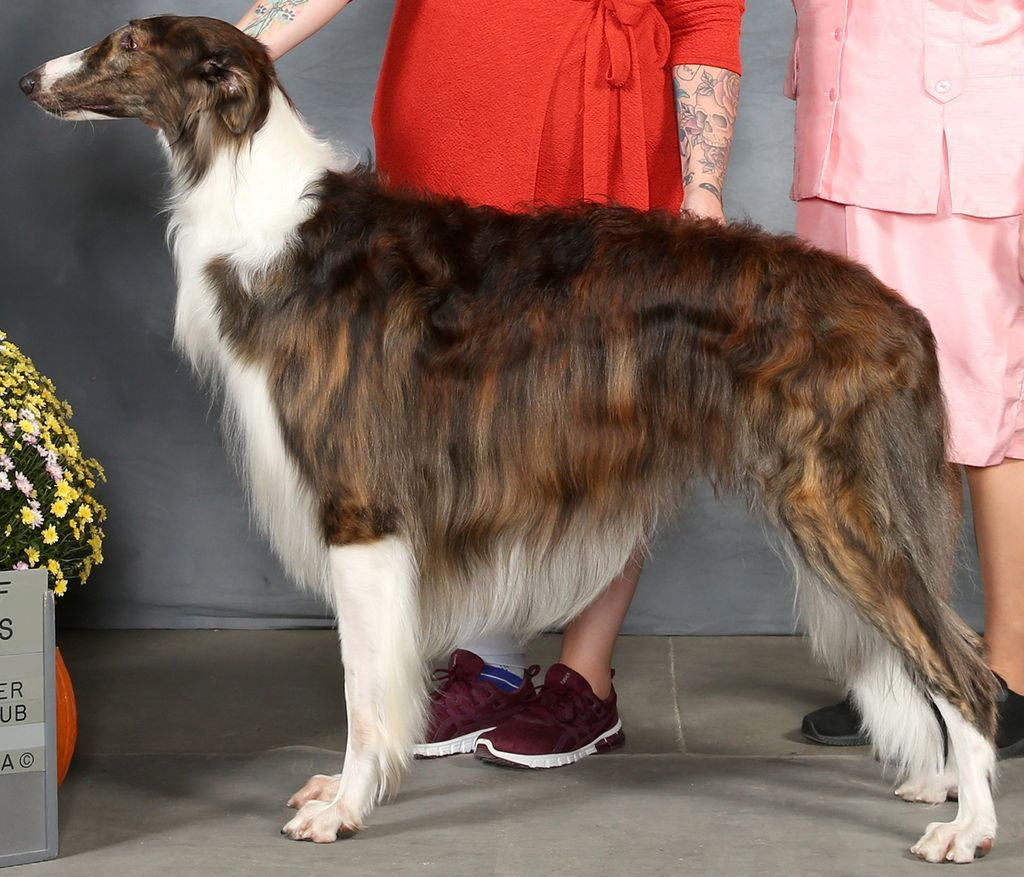borzoi: (12, 14, 1016, 867)
